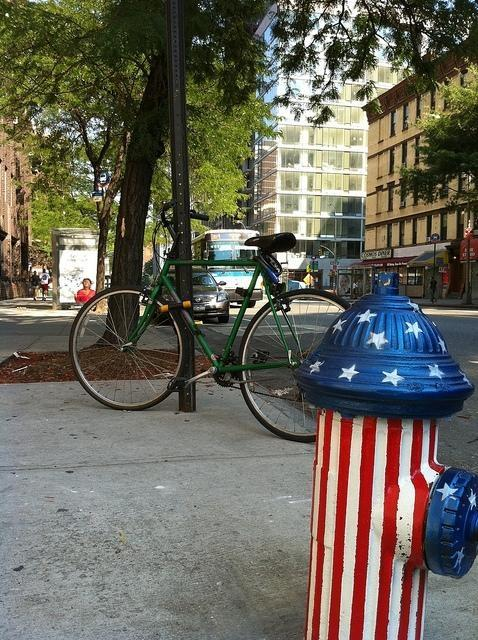bicycle: (67, 198, 352, 440)
bus: (191, 228, 258, 300)
car: (194, 268, 230, 325), (324, 288, 338, 296)
